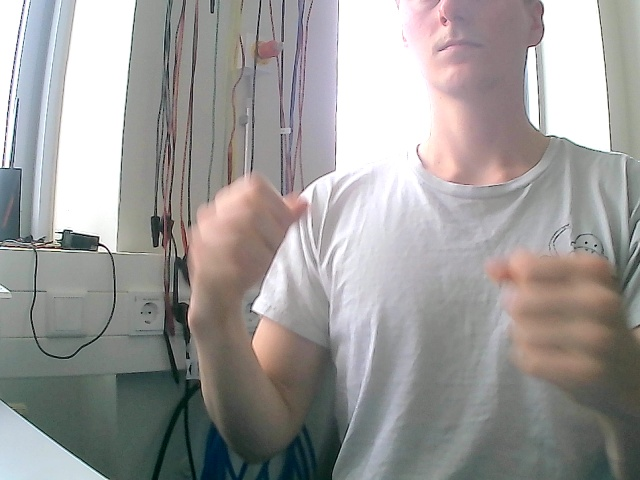no_gesture: (483, 245, 639, 420), (183, 170, 310, 298)
